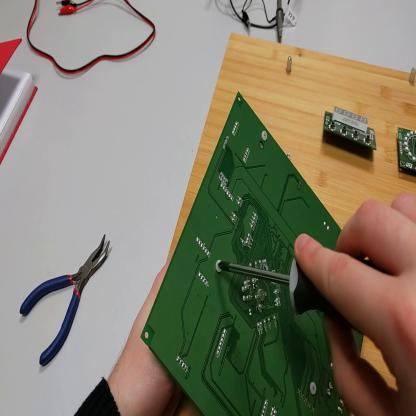hand: (296, 198, 416, 416), (109, 262, 187, 415)
low voltage board: (141, 91, 365, 415)
oscilloscope probe tip: (276, 1, 286, 44)
pliers: (19, 233, 111, 367)
register: (2, 36, 38, 168)
screwdriver-: (220, 258, 373, 334)
working area: (169, 33, 416, 391)
